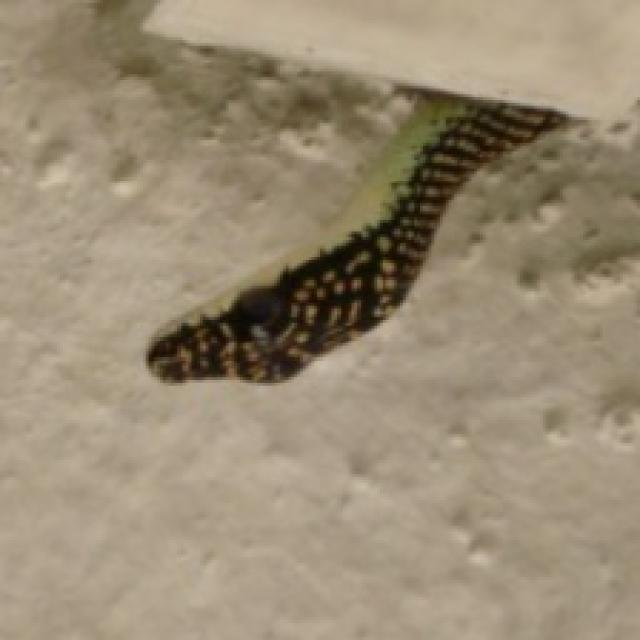paradise tree snake: (148, 85, 570, 382)
